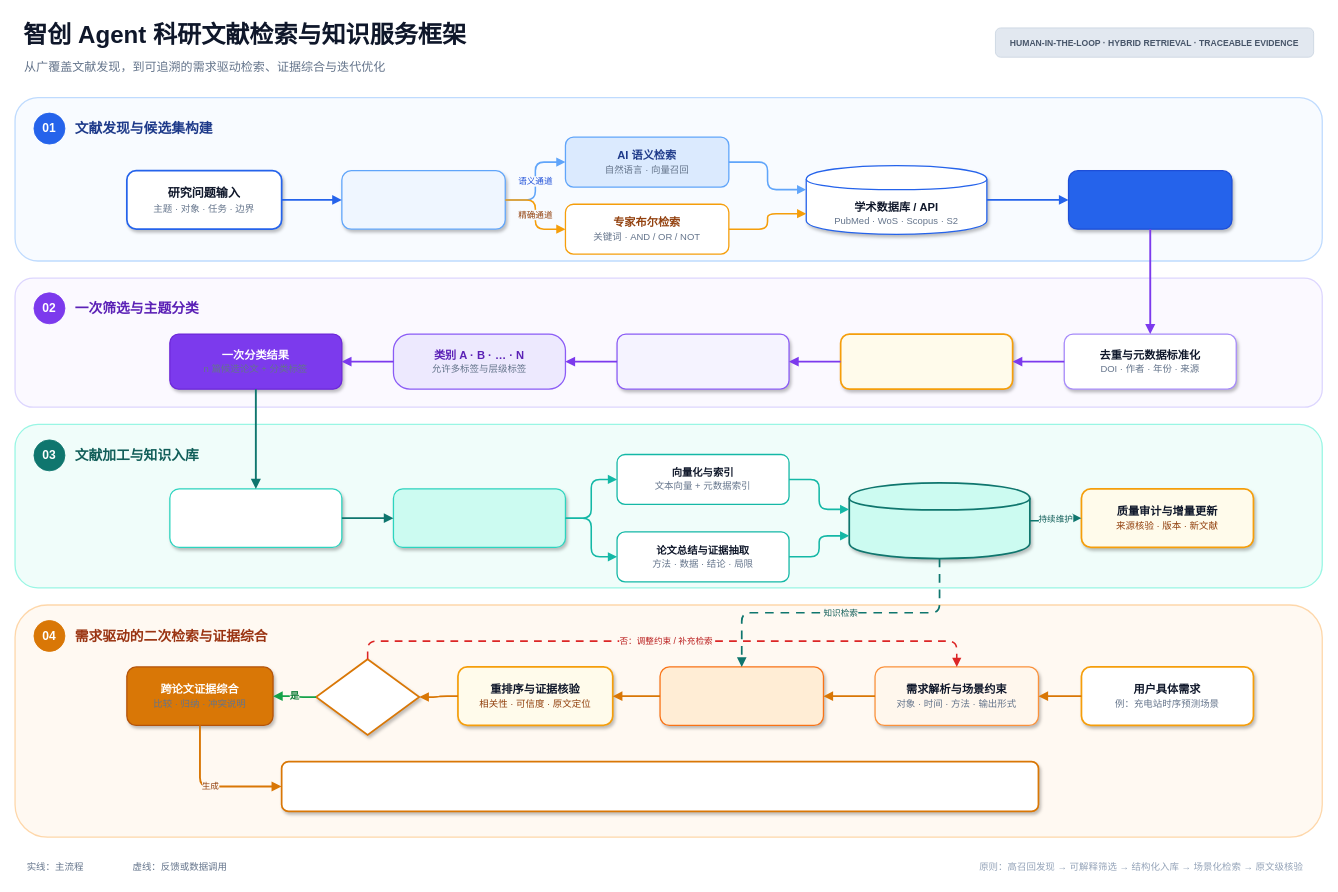
This 1338x892 diagram has some shape labels left out. Here are the shapes that lost their labels. From the top down, the centre of each, then its label:
(x=424, y=200): 查询理解与扩展 意图拆解 · 同义词 · 约束
(x=1150, y=200): 候选论文池 多源合并 · 保留检索来源
(x=703, y=362): 主题分类与标签生成 任务 · 方法 · 数据 · 场景
(x=927, y=362): 相关性与质量初筛 AI 排序 + 人工确认
(x=256, y=519): 全文获取与结构解析 标题 · 摘要 · 方法 · 结果
(x=480, y=519): 结构感知文档切片 章节边界 · 上下文重叠
(x=940, y=521): 统一知识库 文档库 · 向量库 · 标签库
(x=368, y=697): 证据充分？
(x=742, y=697): 二次分类与混合检索 标签过滤 + 关键词 + 向量
(x=660, y=787): 可追溯输出 相关论文清单 · 方法与结果比较矩阵 · 带原文定位的综述 / 回答 · 推荐阅读路径
